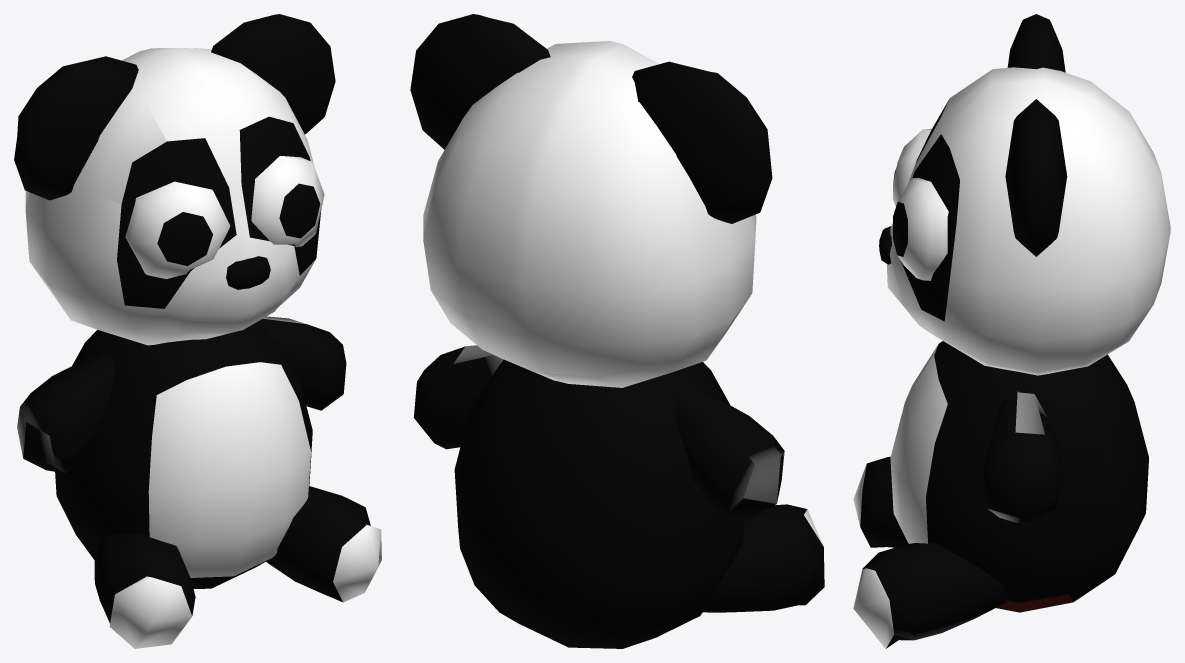
File: Prop_TeddyBear_04.fbx
3 renders of one model, left to right at view 1: azimuth 30°, elevation 25°; view 2: azimuth 150°, elevation 25°; view 3: azimuth 270°, elevation 25°, orthographic. The views are drawn at different scales.
Visible parts, largest first — view 1: Prop_TeddyBear_04; view 2: Prop_TeddyBear_04; view 3: Prop_TeddyBear_04.
Boxes of the visible parts, x1,y1,x2,y2 form: Prop_TeddyBear_04: (14,14,381,648); Prop_TeddyBear_04: (410,14,824,648); Prop_TeddyBear_04: (853,14,1170,648).
Bounding box in the file's own units: 30.47 × 48.17 × 25.98.
